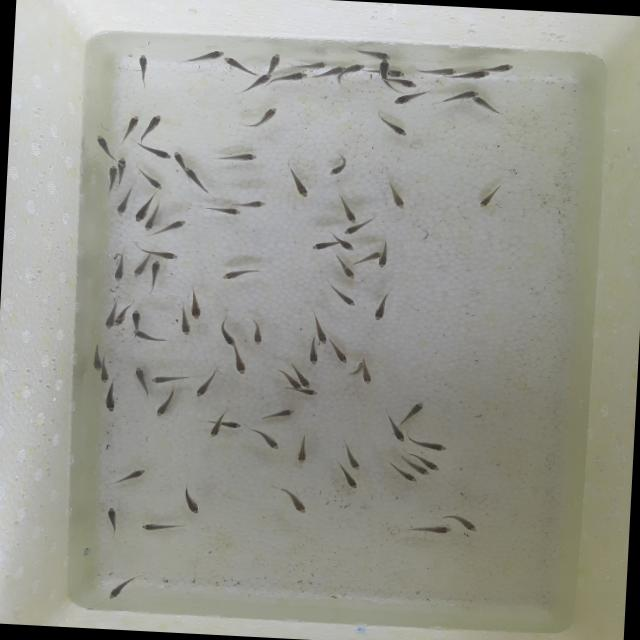fingerling: (368, 288, 397, 326), (472, 180, 506, 212), (176, 486, 207, 518), (106, 574, 140, 602), (184, 46, 228, 66), (282, 489, 312, 518), (406, 436, 454, 454), (216, 150, 266, 166), (408, 522, 457, 538), (119, 464, 149, 490), (117, 113, 144, 141), (185, 166, 212, 194), (138, 166, 167, 192), (215, 318, 240, 348), (310, 313, 332, 347), (247, 70, 273, 98), (287, 172, 313, 200), (220, 266, 260, 284), (157, 215, 188, 238), (252, 107, 281, 131), (248, 318, 270, 349), (334, 195, 359, 222), (342, 444, 365, 473), (111, 250, 130, 285), (377, 117, 410, 137), (175, 307, 197, 337), (131, 362, 151, 395), (328, 341, 354, 366), (262, 404, 298, 422), (352, 248, 384, 268), (386, 412, 406, 444), (195, 370, 216, 400), (143, 111, 166, 138), (330, 286, 358, 308), (468, 95, 500, 114), (386, 182, 406, 212), (132, 194, 152, 224), (188, 292, 208, 322), (454, 511, 479, 535), (342, 218, 377, 235), (111, 190, 132, 218), (221, 55, 250, 75), (105, 378, 121, 414), (141, 247, 179, 262), (150, 371, 188, 386), (255, 430, 282, 451), (142, 204, 162, 232), (206, 412, 226, 440), (136, 144, 170, 160), (437, 89, 478, 102), (336, 258, 360, 280), (327, 157, 352, 178), (227, 351, 248, 376), (154, 392, 174, 418), (390, 93, 422, 109), (277, 72, 309, 88), (378, 240, 394, 272), (338, 469, 360, 492), (148, 258, 164, 289), (457, 70, 491, 84), (294, 433, 308, 467), (353, 48, 392, 60), (138, 522, 180, 533), (115, 303, 132, 330), (103, 506, 122, 530), (101, 304, 116, 334), (320, 66, 348, 82), (116, 157, 130, 189), (330, 234, 356, 251), (404, 400, 424, 422), (136, 52, 151, 81), (128, 330, 164, 342), (95, 134, 114, 156), (302, 343, 320, 366), (418, 66, 458, 76), (266, 52, 286, 72), (228, 198, 268, 208), (90, 342, 102, 374), (413, 454, 438, 469), (484, 60, 515, 72), (284, 372, 302, 392), (396, 468, 418, 484), (106, 165, 119, 192), (306, 238, 331, 252), (100, 353, 112, 382), (132, 258, 150, 277), (220, 418, 246, 431), (302, 60, 330, 72), (394, 78, 421, 90), (296, 371, 314, 389), (407, 465, 432, 477), (344, 63, 366, 76), (360, 364, 373, 386), (348, 361, 367, 376), (374, 58, 391, 74), (172, 149, 187, 167), (204, 208, 242, 215), (295, 388, 321, 398), (132, 308, 144, 328), (384, 70, 408, 78)
